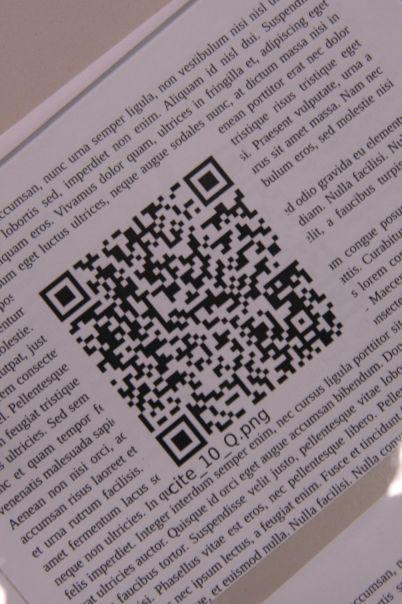Finder pattern: (153, 411, 207, 468), (39, 268, 91, 324), (181, 157, 238, 207)
